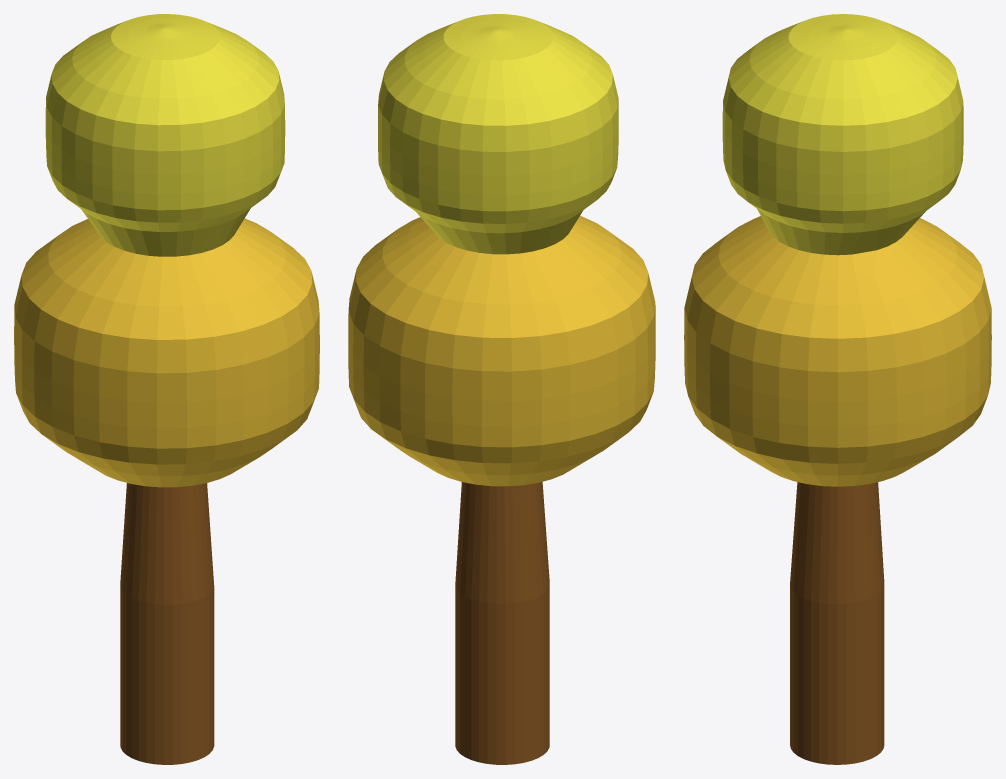
Rendered from JAm2_tree2.fbx.
3 views of the same model, side by side, from view 1: azimuth 30°, elevation 25°; view 2: azimuth 150°, elevation 25°; view 3: azimuth 270°, elevation 25° (orthographic).
Visible parts, largest first — view 1: tree.001; view 2: tree.001; view 3: tree.001.
Part boxes in pixels (x1=…): tree.001: x1=14, y1=14, x2=319, y2=764; tree.001: x1=348, y1=14, x2=655, y2=764; tree.001: x1=684, y1=14, x2=991, y2=764.
Size of the model in its own units: 2883 by 7401 by 2883.
